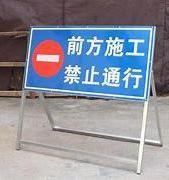sign: (21, 26, 154, 100)
